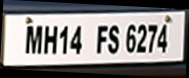character: (25, 24, 42, 54), (43, 24, 57, 53), (69, 25, 83, 54), (96, 24, 107, 54), (108, 24, 119, 54), (125, 23, 136, 53), (136, 22, 146, 53), (156, 24, 167, 52), (147, 24, 157, 53), (59, 25, 68, 54)
